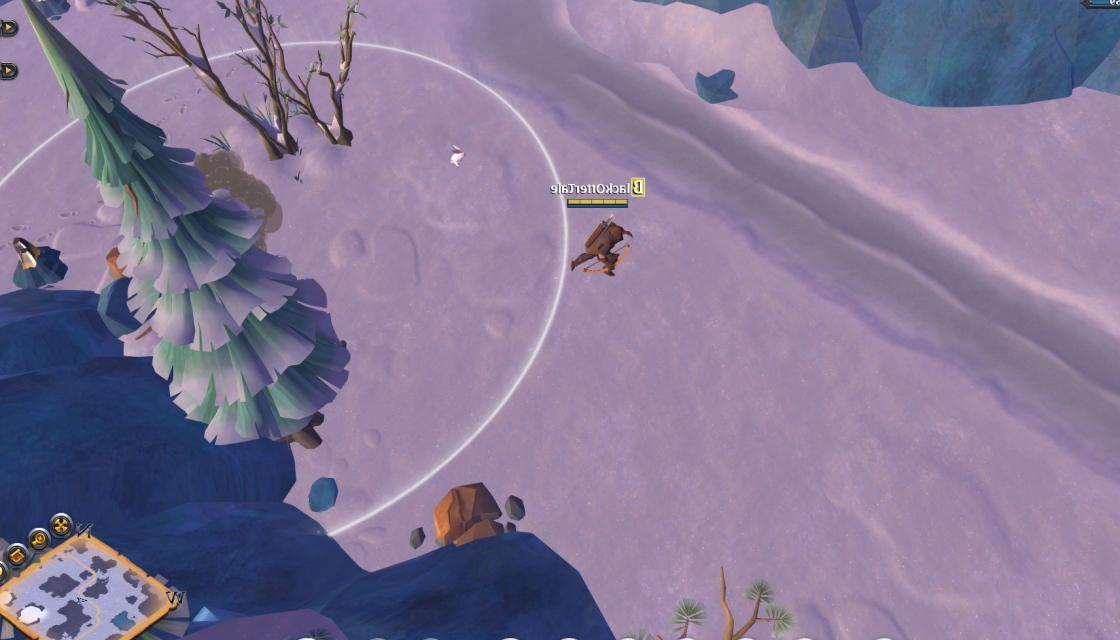copperore: (8, 234, 72, 290)
limestone: (409, 474, 522, 556)
